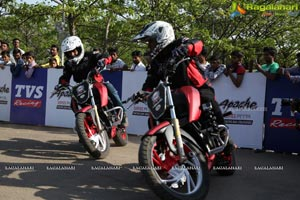helmet: (140, 22, 177, 61), (61, 33, 85, 62)
